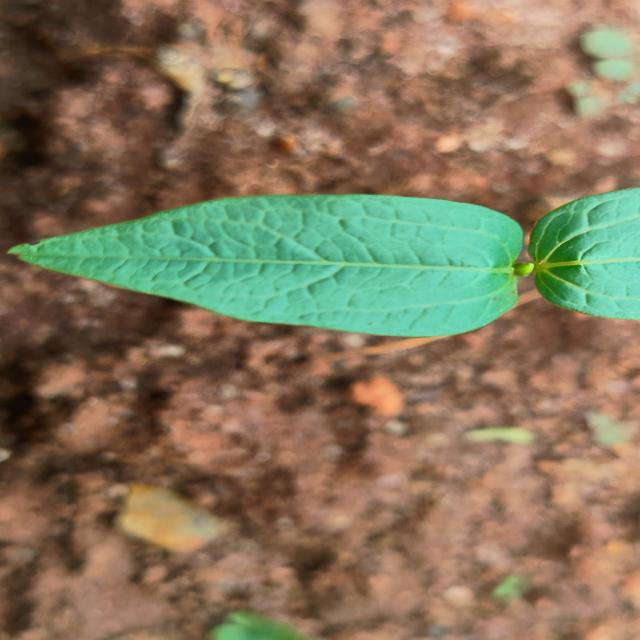Black gram_healthy: (14, 192, 528, 336)
